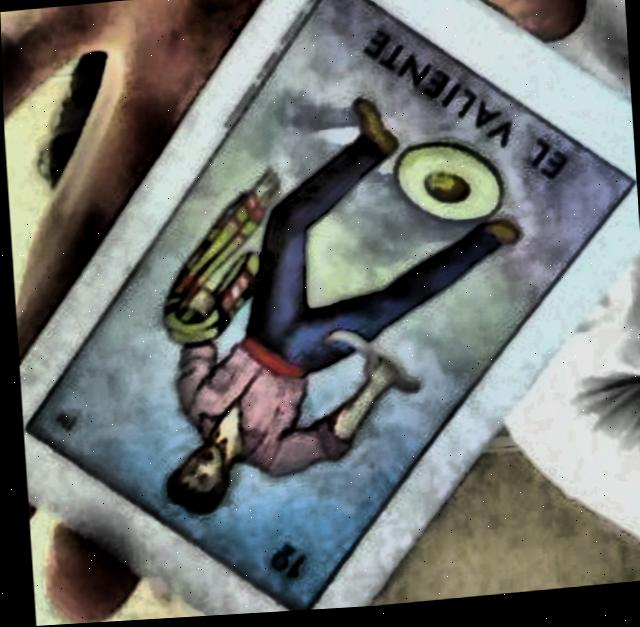El Valiente: (24, 0, 634, 612)
